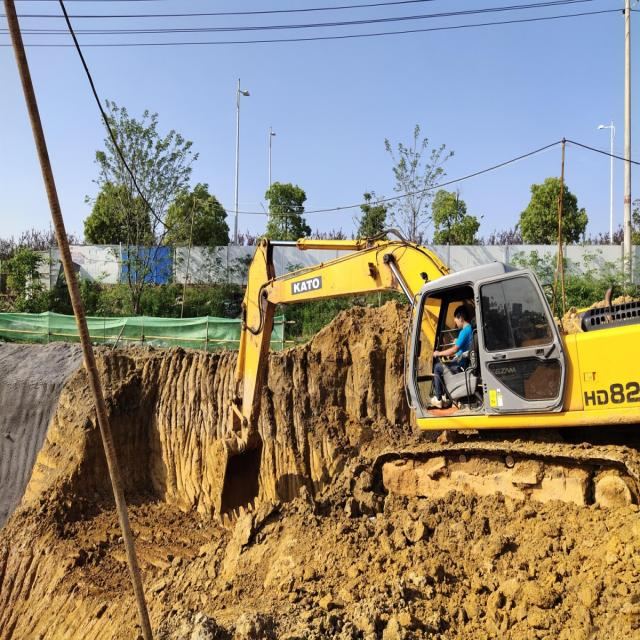excavator: (207, 226, 640, 526)
